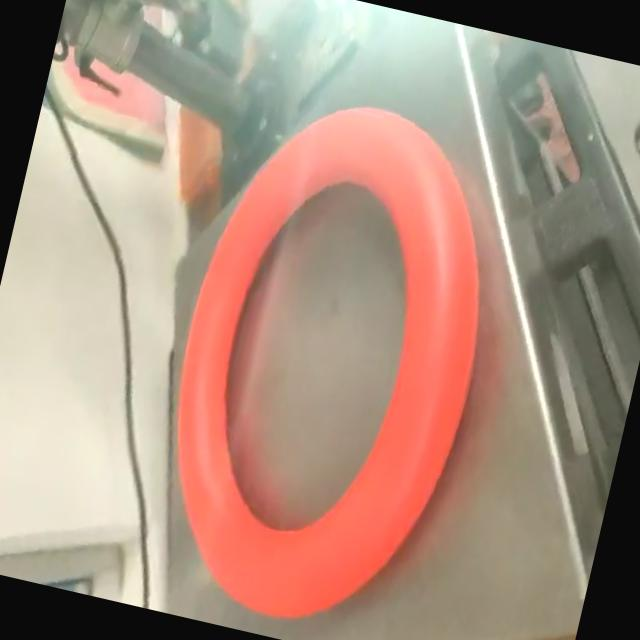note: (128, 72, 531, 640)
